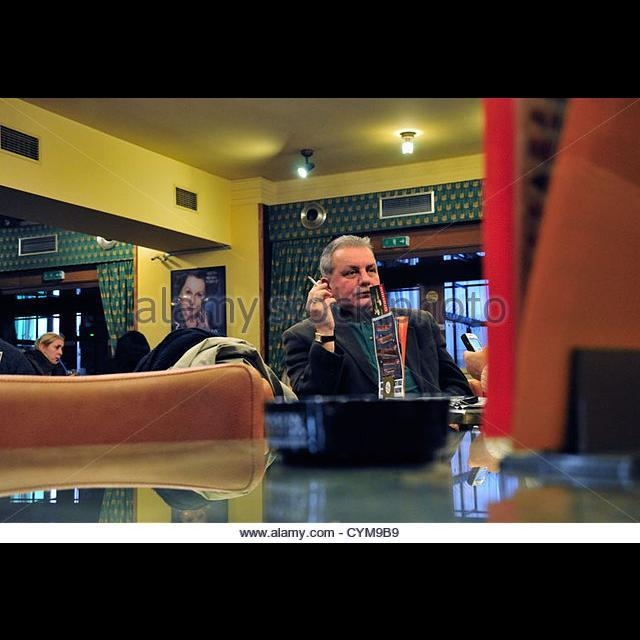rokok: (306, 276, 322, 290)
